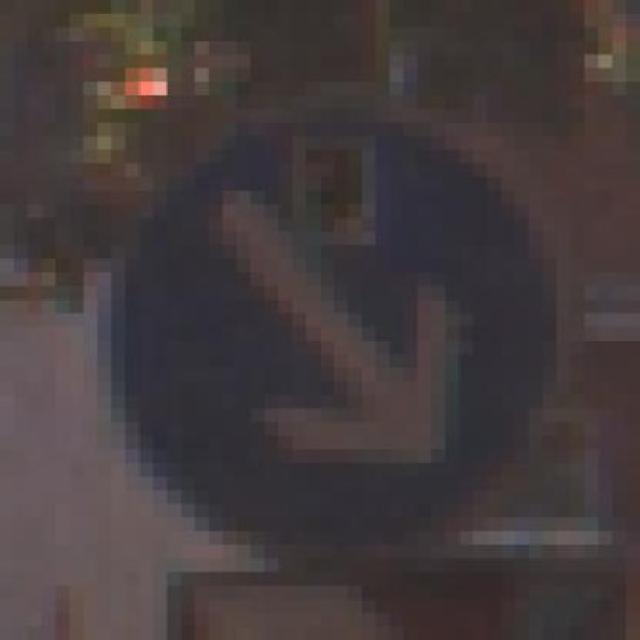Keep-Right: (83, 82, 585, 572)
